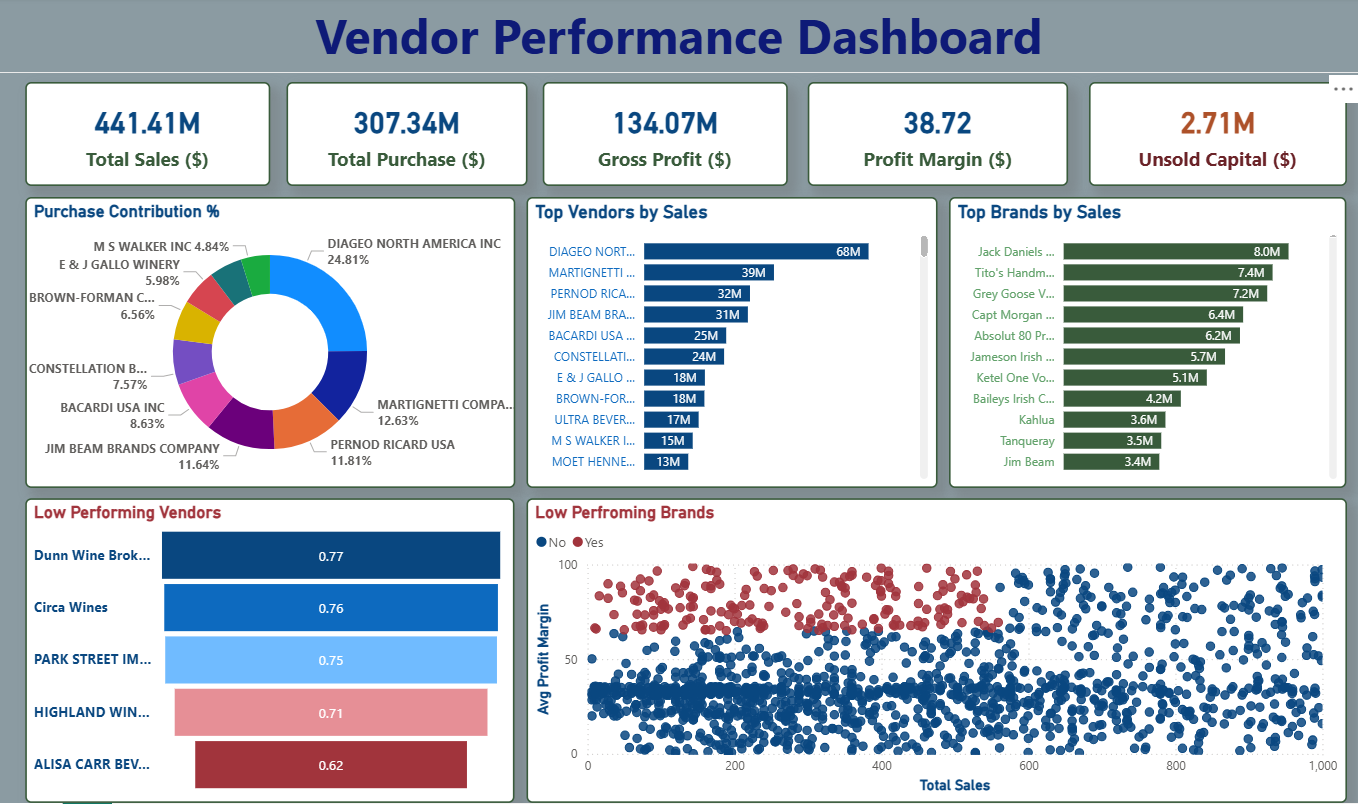

This screenshot's page, from the dashboard's own definition file:
{"tool":"powerbi","page":{"name":"Page 1","canvas":[1350,800],"ordinal":0},"visuals":[{"type":"card","fields":{"Values":["Sum(vendor_sales_summary.TotalSalesDollars)"]},"box":[26.4,84.5,242.8,102.9],"z":0},{"type":"card","fields":{"Values":["Sum(vendor_sales_summary.TotalPurchaseDollars)"]},"box":[285,84.5,238.9,102.9],"z":1},{"type":"card","fields":{"Values":["Sum(vendor_sales_summary.GrossProfit)"]},"box":[539.7,84.5,242.8,102.9],"z":2},{"type":"card","fields":{"Values":["Avg(vendor_sales_summary.ProfitMargin)"]},"box":[802.3,84.5,258.7,102.9],"z":3},{"type":"card","fields":{"Values":["Sum(vendor_sales_summary.UnsoldInventoryValue)"]},"box":[1082.1,84.5,256,102.9],"z":4},{"type":"donutChart","title":"Purchase Contribution % ","fields":{"Category":["PurchaseContribution.VendorName"],"Y":["Sum(PurchaseContribution.PurchaseContribution%)"]},"box":[26.4,198.5,486.2,288.9],"z":5},{"type":"barChart","title":"Top Vendors by Sales","fields":{"Category":["vendor_sales_summary.VendorName"],"Y":["Sum(vendor_sales_summary.TotalSalesDollars)"]},"box":[523.9,197.9,407.8,289],"z":6},{"type":"barChart","title":"Top Brands by Sales","fields":{"Y":["Sum(vendor_sales_summary.TotalSalesDollars)"],"Category":["vendor_sales_summary.Description"]},"box":[943.5,197.9,394.6,289],"z":7},{"type":"funnel","title":"Low Performing Vendors","fields":{"Category":["LowTurnoverVendors.VendorName"],"Y":["Avg(LowTurnoverVendors.AverageStockTurnover )"]},"box":[26.4,497.5,485.6,302.2],"z":8},{"type":"scatterChart","title":"Low Perfroming Brands","fields":{"Category":["BrandPerformance.Description"],"X":["Sum(BrandPerformance.TotalSales)"],"Y":["Sum(BrandPerformance.AverageProfitMargin)"],"Series":["BrandPerformance.TargetBrands"]},"box":[523.9,497.5,814.2,302.2],"z":9},{"type":"textbox","box":[0,0,1350,75.2],"z":10}]}

Visuals, with their boxes in screenshot pixels (x1, y1, x2, y2), scaled from the page's 1350x800 canvas onto the 1358x804 screenshot:
card - Sum(vendor_sales_summary.TotalSalesDollars): (27,85,271,188)
card - Sum(vendor_sales_summary.TotalPurchaseDollars): (287,85,527,188)
card - Sum(vendor_sales_summary.GrossProfit): (543,85,787,188)
card - Avg(vendor_sales_summary.ProfitMargin): (807,85,1067,188)
card - Sum(vendor_sales_summary.UnsoldInventoryValue): (1089,85,1346,188)
"Purchase Contribution % " donutChart: (27,199,516,490)
"Top Vendors by Sales" barChart: (527,199,937,489)
"Top Brands by Sales" barChart: (949,199,1346,489)
"Low Performing Vendors" funnel: (27,500,515,803)
"Low Perfroming Brands" scatterChart: (527,500,1346,803)
textbox: (0,0,1357,76)
